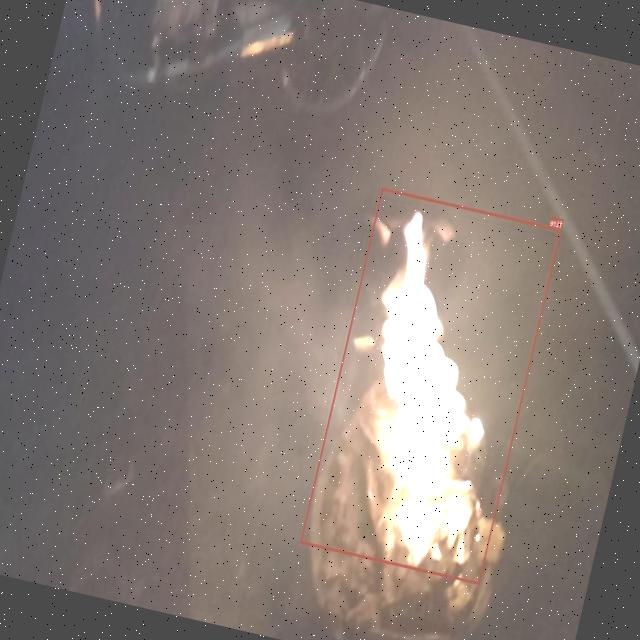fire: (300, 186, 561, 584)
